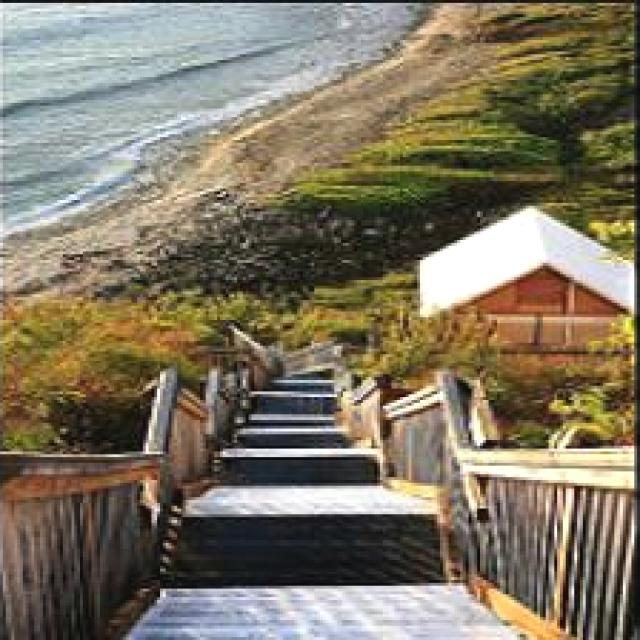upstair: (150, 356, 450, 576)
